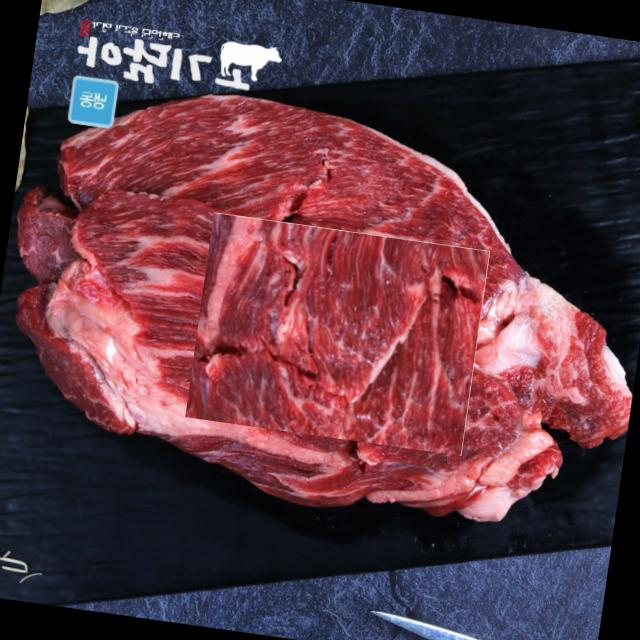beef: (200, 196, 474, 472)
